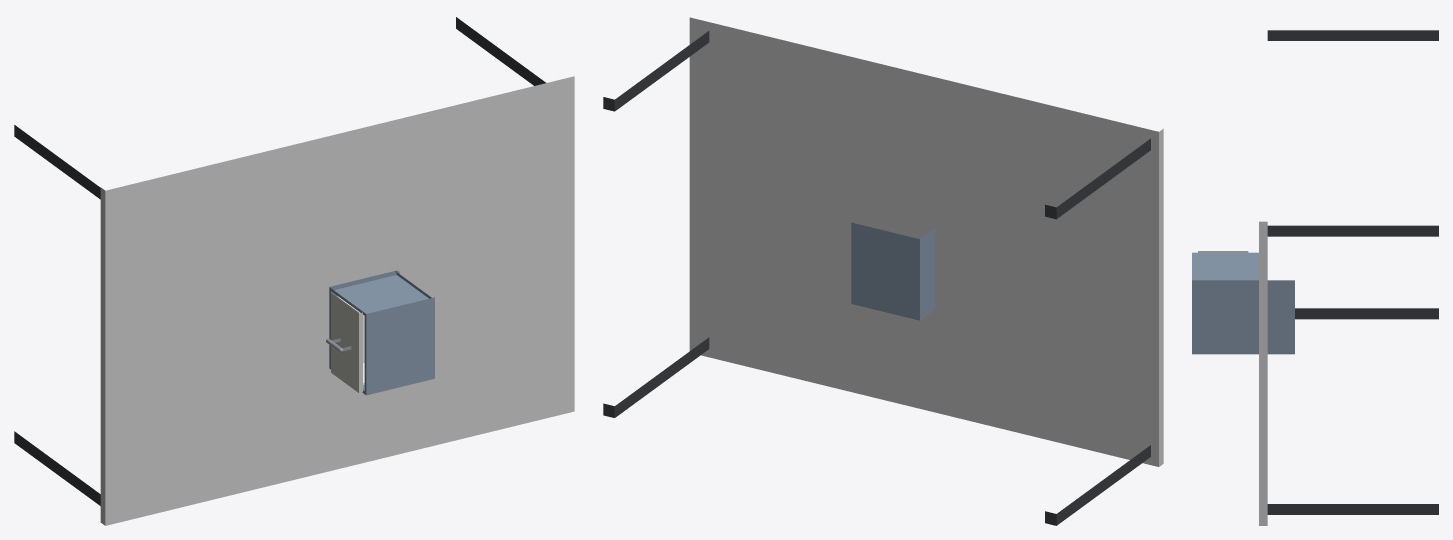
The picture shows the model from 3 angles, left to right: view 1: azimuth 30°, elevation 25°; view 2: azimuth 150°, elevation 25°; view 3: azimuth 270°, elevation 25°; orthographic projection. The views are drawn at different scales.
Parts seen in each view (by area): view 1: s0, s1, s2; view 2: s0, s1; view 3: s0, s1.
Part boxes in pixels (box(x1,y1,x2,y2)): s0: box(14, 17, 574, 525); s1: box(329, 270, 434, 395); s2: box(326, 293, 364, 392); s0: box(603, 17, 1163, 525); s1: box(851, 222, 935, 320); s0: box(1259, 30, 1438, 525); s1: box(1192, 252, 1294, 354).
Size of the model in its own units: 2.05 by 1.4 by 1.03.
